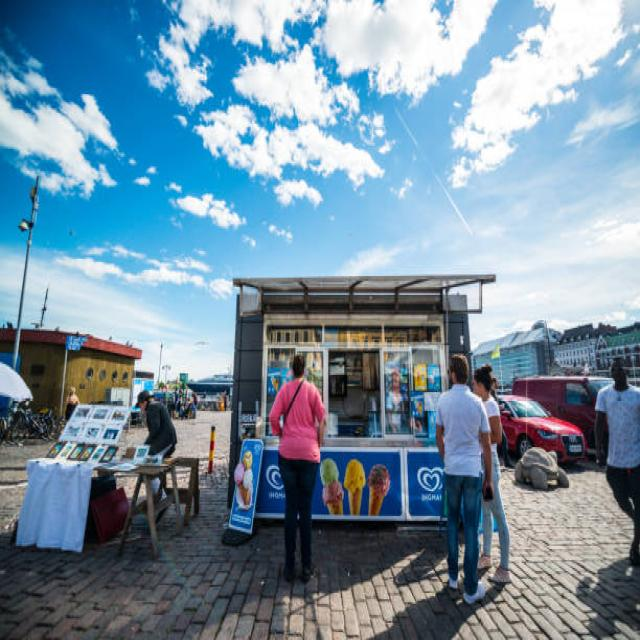Emperan: (213, 258, 506, 562)
